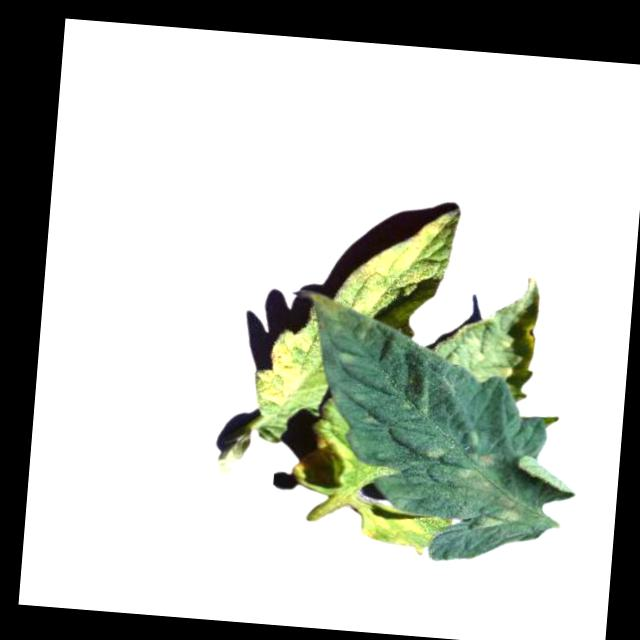Leaf_Mold: (334, 200, 459, 320), (254, 328, 314, 411), (357, 502, 437, 553), (454, 448, 504, 496), (292, 432, 346, 476), (472, 492, 522, 533)
